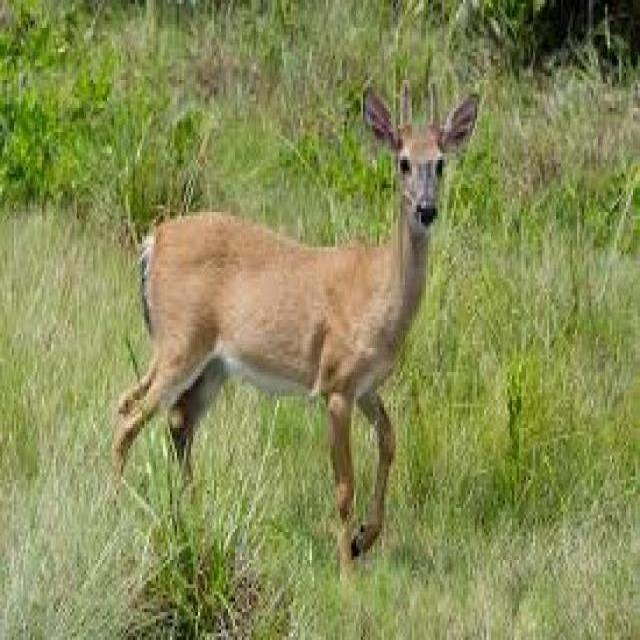deer: (100, 61, 492, 584)
